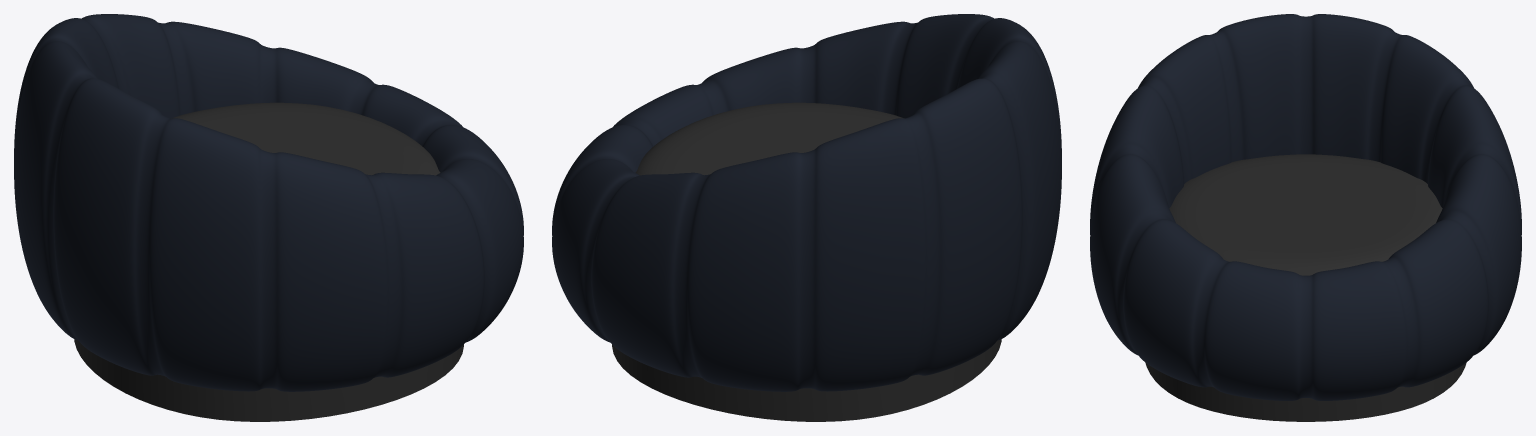
File: SM_Env_Armchair.fbx
The picture shows the model from 3 angles, left to right: view 1: azimuth 30°, elevation 25°; view 2: azimuth 150°, elevation 25°; view 3: azimuth 270°, elevation 25°; orthographic projection. The views are drawn at different scales.
Parts seen in each view (by area): view 1: Armchair; view 2: Armchair; view 3: Armchair.
Boxes of the visible parts, x1,y1,x2,y2 form: Armchair: (14, 14, 523, 421); Armchair: (552, 14, 1061, 421); Armchair: (1090, 14, 1521, 421).
Size of the model in its own units: 1.34 by 0.9 by 1.34.
